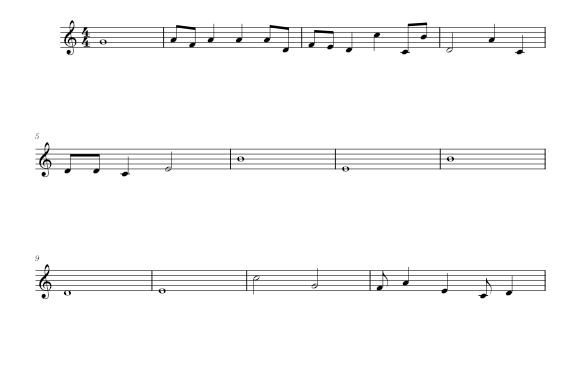Treble Clef: (38, 263, 55, 306), (36, 141, 55, 179), (62, 17, 79, 59)
